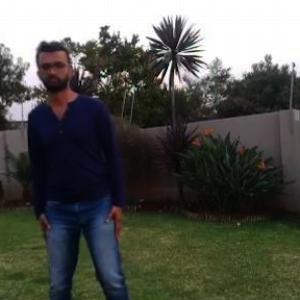follow: (24, 39, 131, 299)
